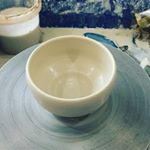cups: (23, 33, 118, 123)
